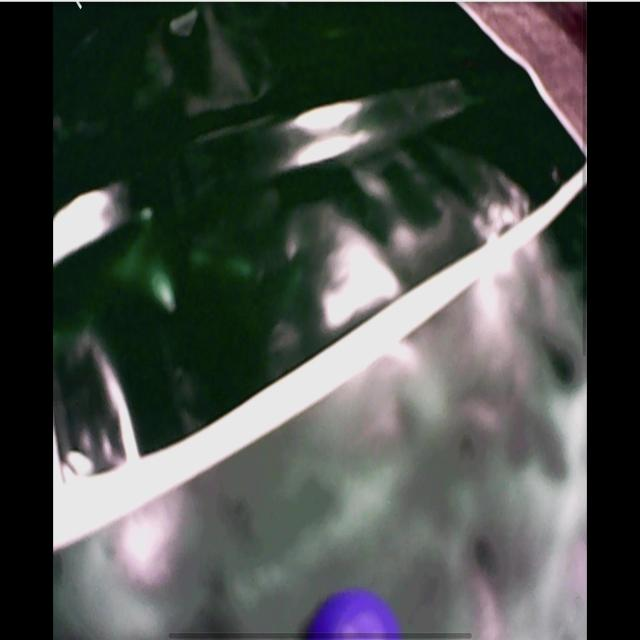ball: (309, 591, 403, 640)
